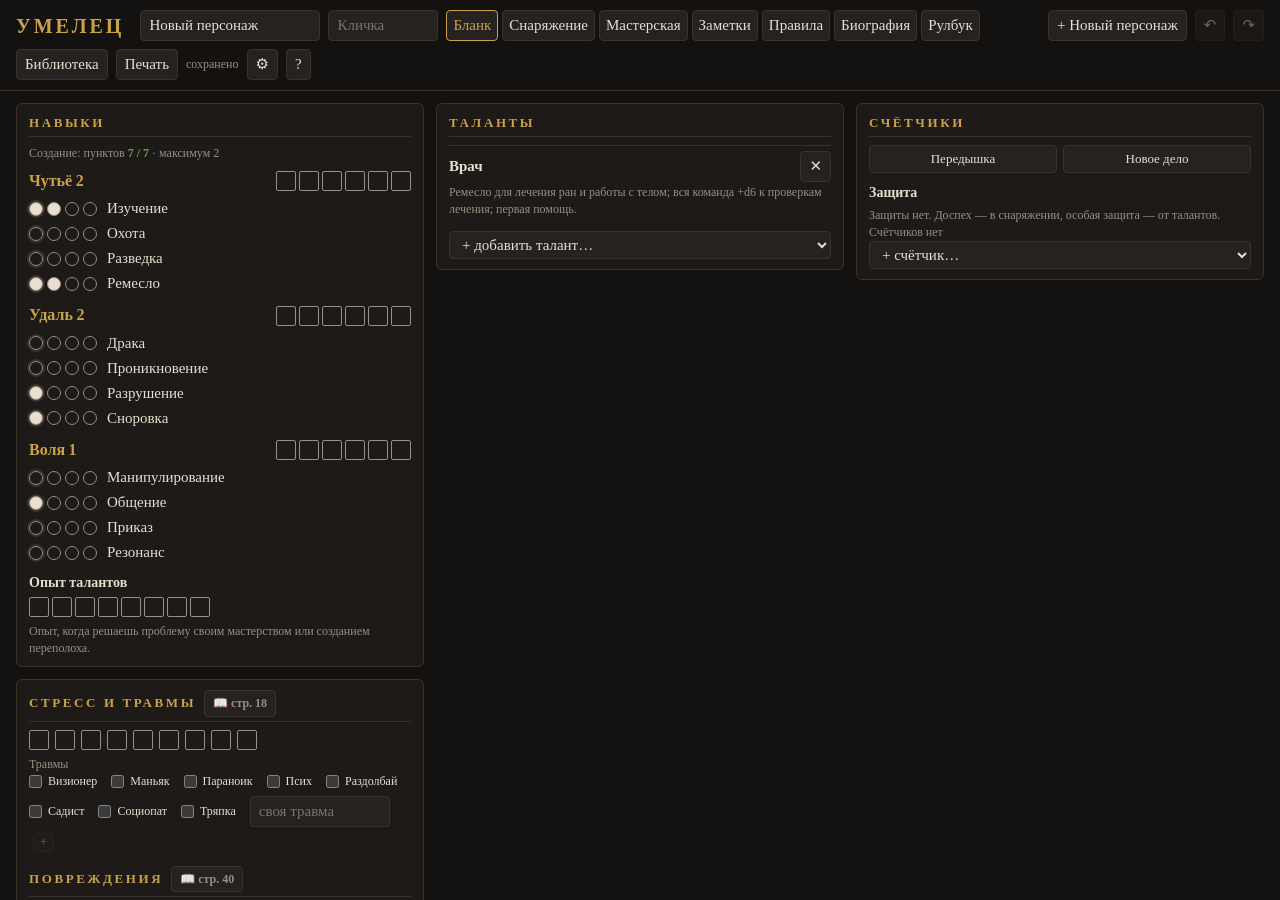
Test case: Снаряжение: деньги › book: coins and stash boxes, lifestyle info
Step 1. Click the button "Снаряжение" → (549, 26), box [502,10,595,41]
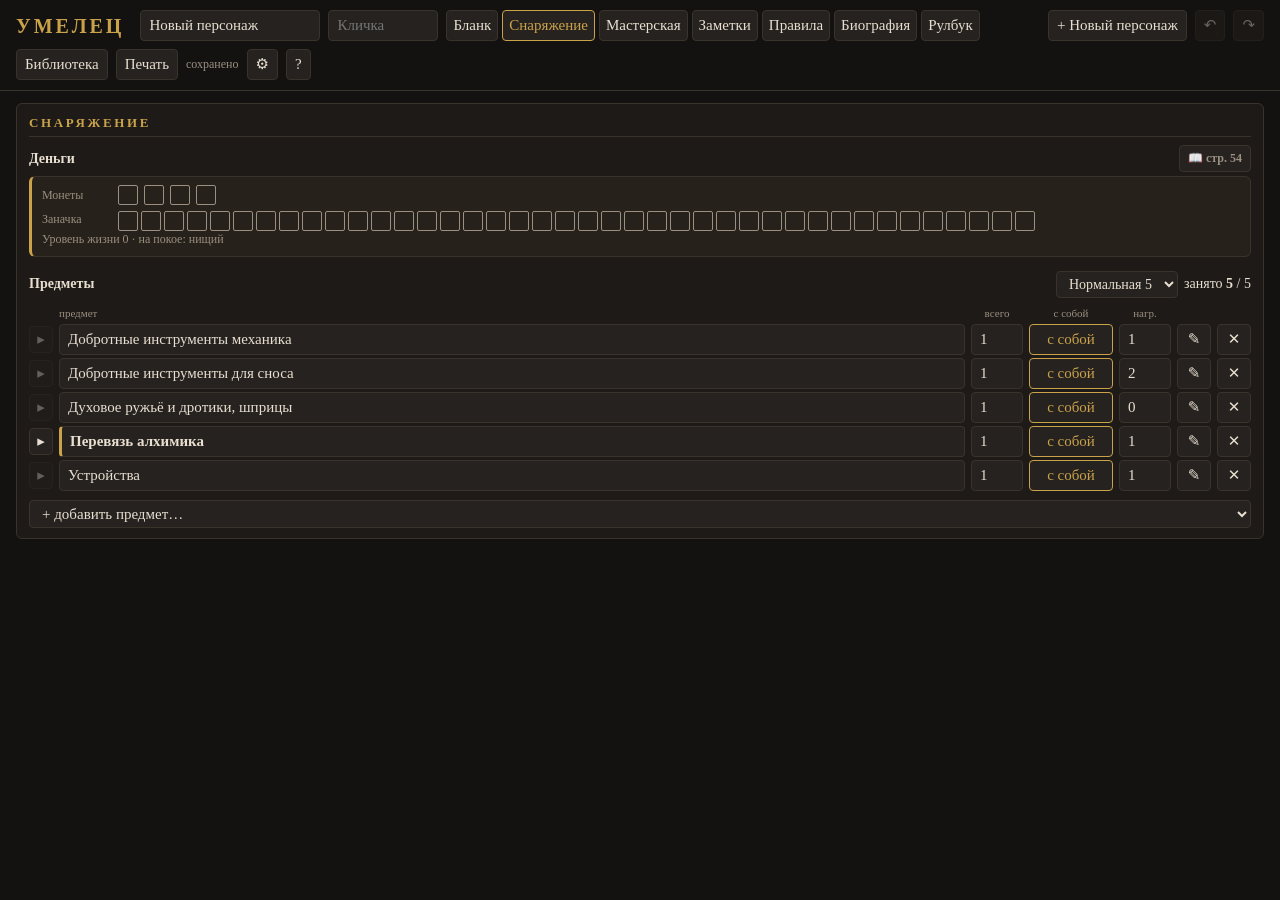
Step 2. Click the checkbox named "Заначка 15" → (450, 221), box [440,211,460,231]
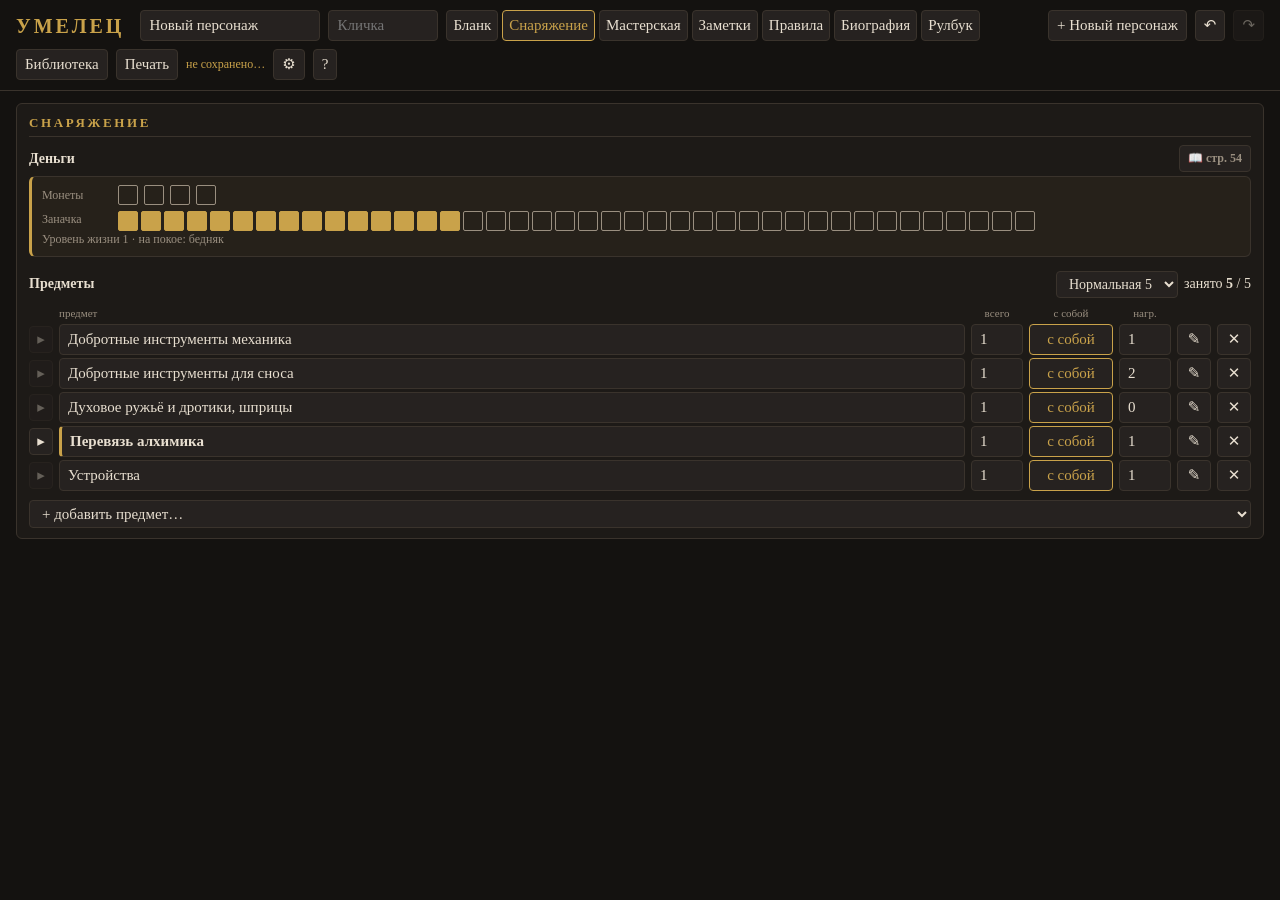
Now the text with test id "stash-info" shows "Уровень жизни 1", box [42,232,224,246]
